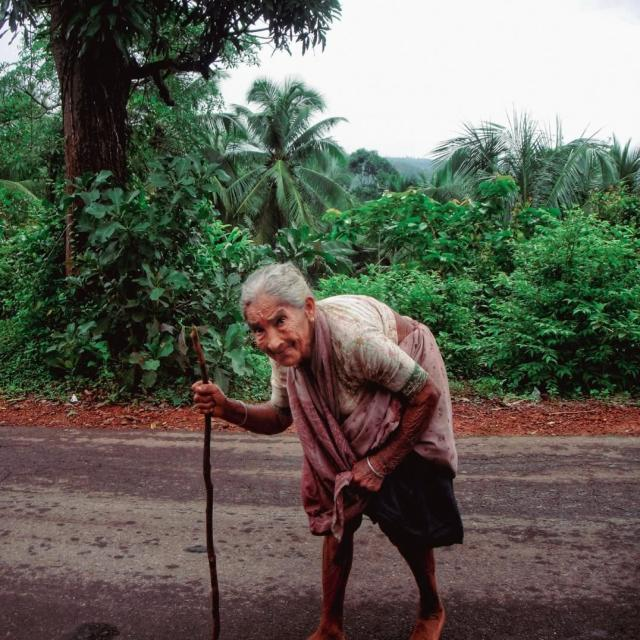idoso em pe: (175, 269, 494, 640)
